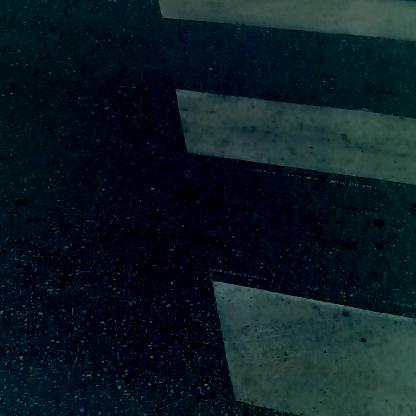crosswalk: (151, 5, 416, 416)
